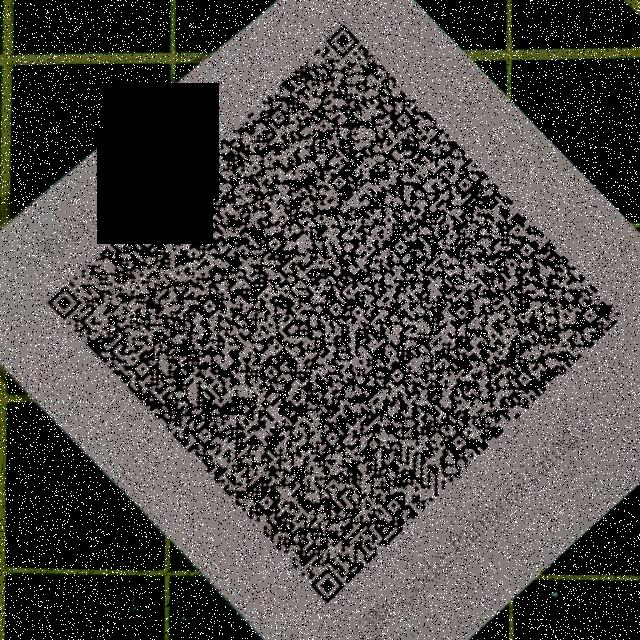QR_CODE: (36, 12, 630, 610)
